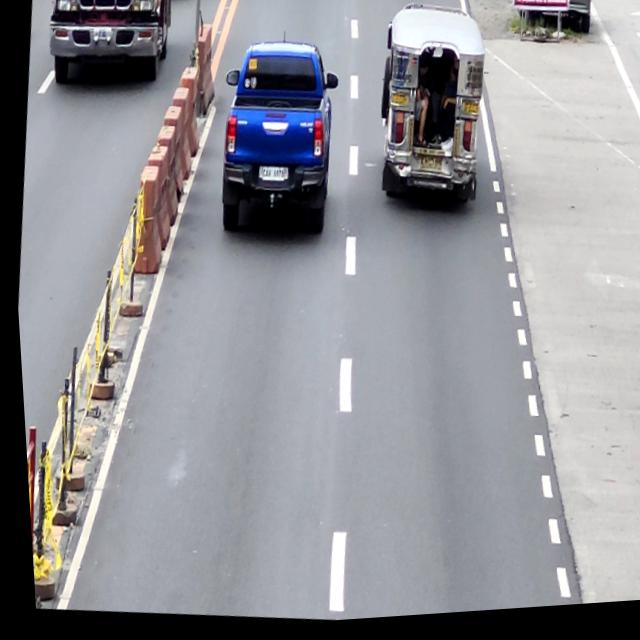Car: (206, 37, 348, 250)
Jeep: (363, 2, 498, 225)
License-Plate: (416, 158, 441, 179), (257, 167, 283, 185)
